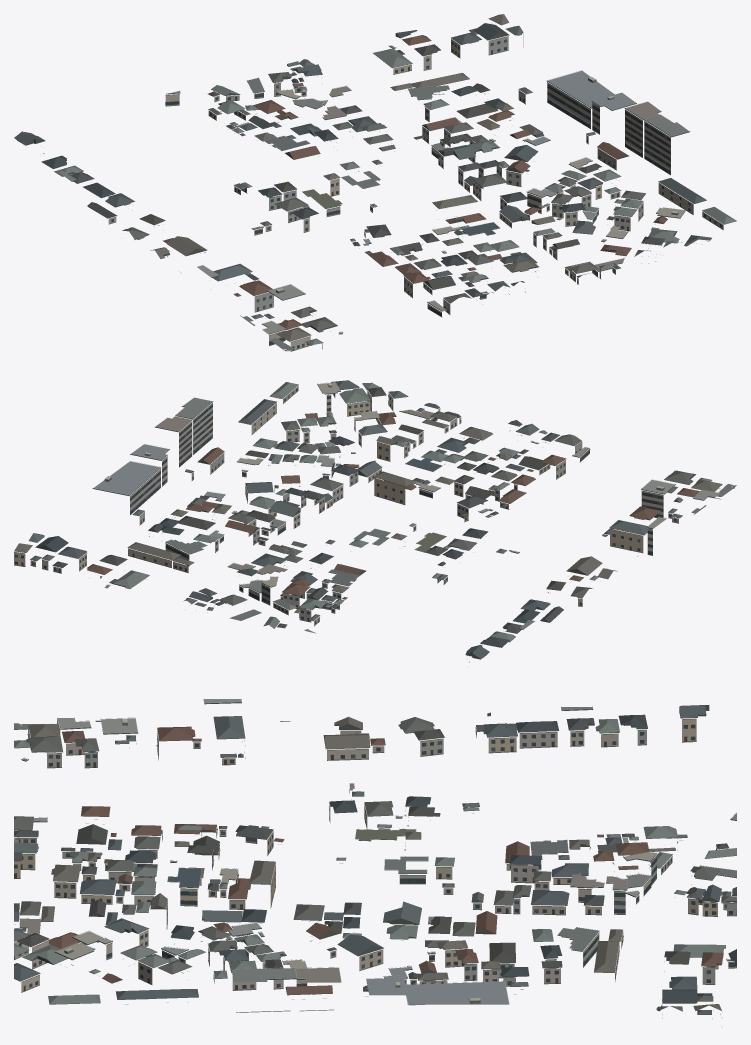
The picture shows the model from 3 angles, top to bottom: view 1: azimuth 30°, elevation 25°; view 2: azimuth 150°, elevation 25°; view 3: azimuth 270°, elevation 25°; orthographic projection. The views are drawn at different scales.
Visible parts, largest first — view 1: r6-c4; view 2: r6-c4; view 3: r6-c4.
Boxes of the visible parts, <box> form: r6-c4: <box>14,14,736,351</box>; r6-c4: <box>14,380,736,667</box>; r6-c4: <box>14,698,736,1027</box>.
Bounding box in the file's own units: 250 × 22.86 × 250.
